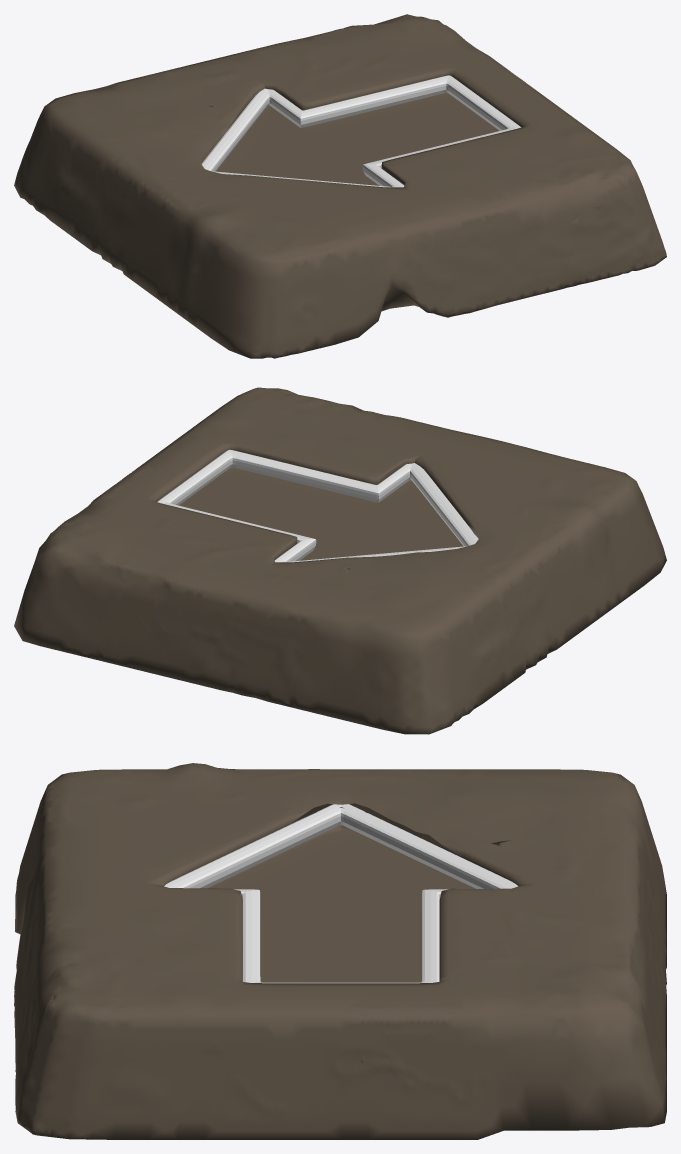
Rendered from stage button (1).fbx.
The picture shows the model from 3 angles, top to bottom: view 1: azimuth 30°, elevation 25°; view 2: azimuth 150°, elevation 25°; view 3: azimuth 270°, elevation 25°; orthographic projection. The views are drawn at different scales.
Visible parts, largest first — view 1: left arrow, left arrow light; view 2: left arrow, left arrow light; view 3: left arrow, left arrow light.
Part boxes in pixels (box(x1,y1,x2,y2)): left arrow: box(14, 14, 666, 358); left arrow light: box(201, 75, 521, 187); left arrow: box(14, 387, 666, 734); left arrow light: box(157, 449, 478, 562); left arrow: box(14, 763, 666, 1139); left arrow light: box(164, 804, 518, 983).
Bounding box in the file's own units: 307 × 64.89 × 307.
